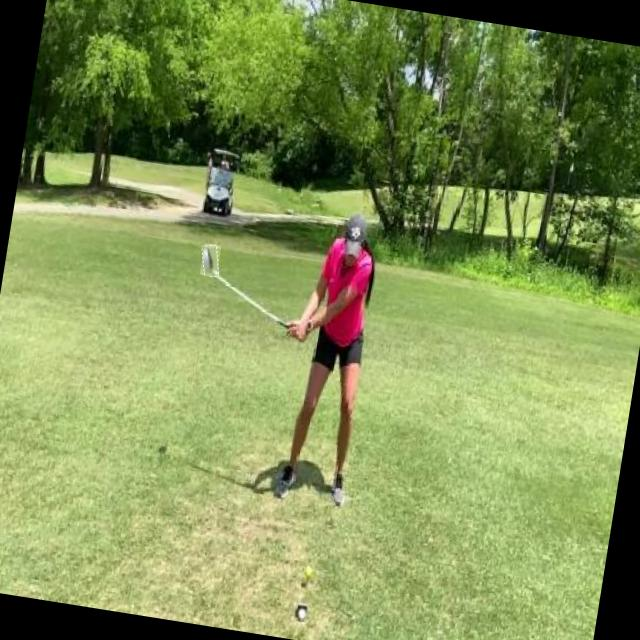club head: (200, 244, 222, 278)
